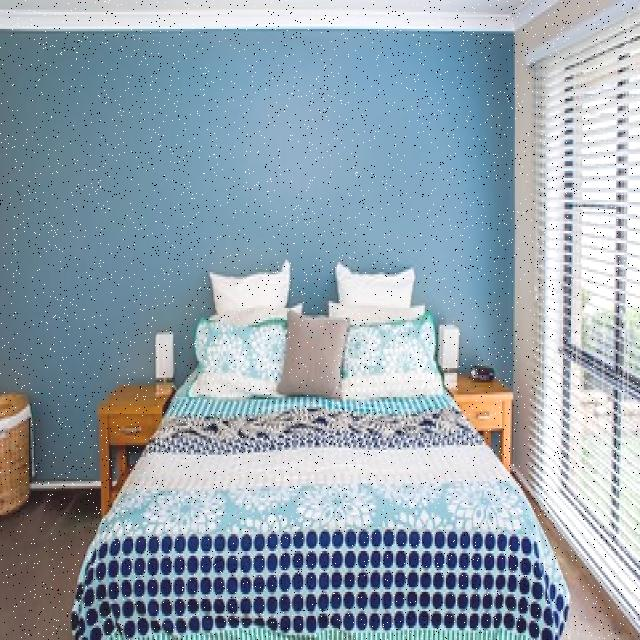bed: (67, 265, 559, 633)
